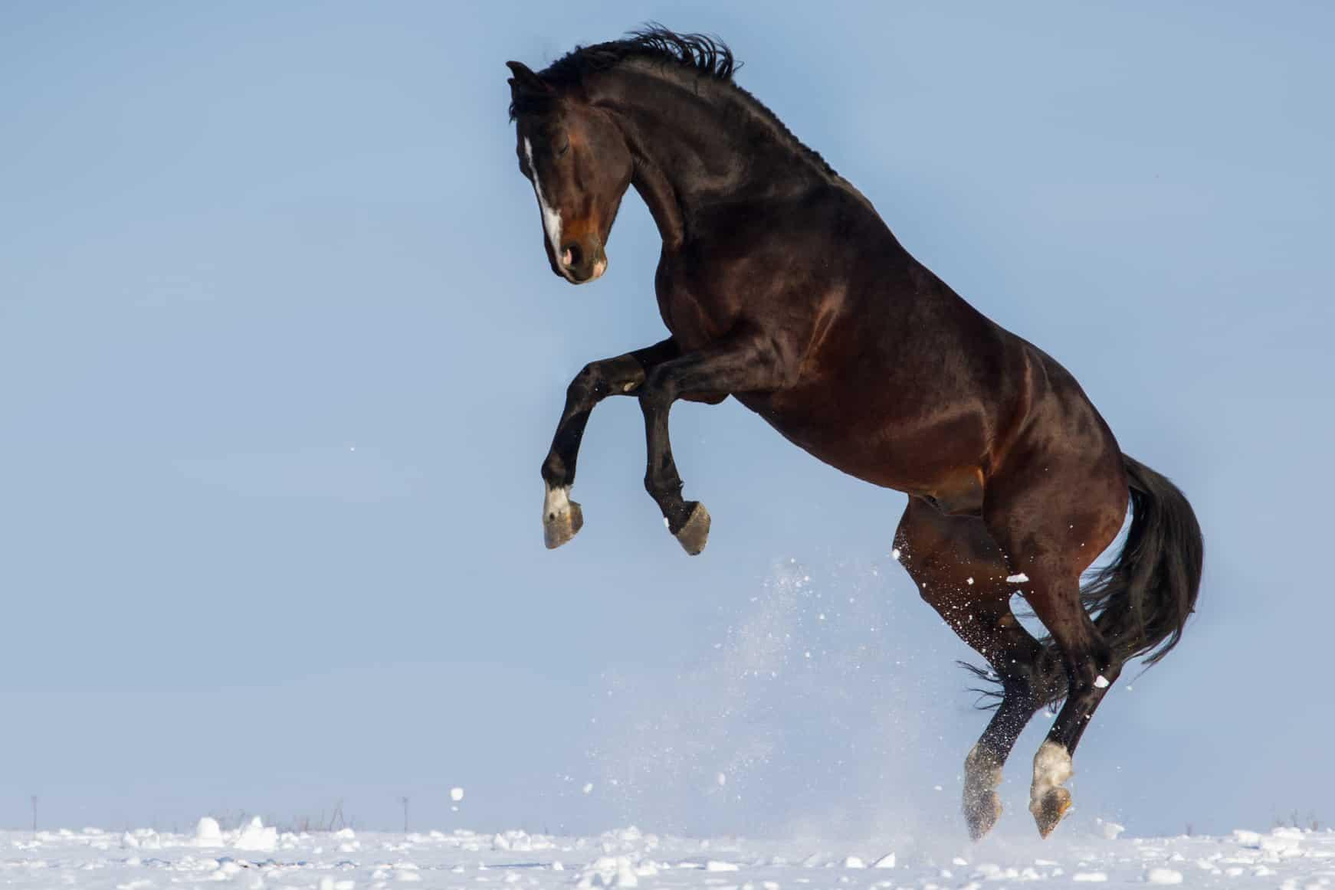horse: (497, 16, 1216, 851)
